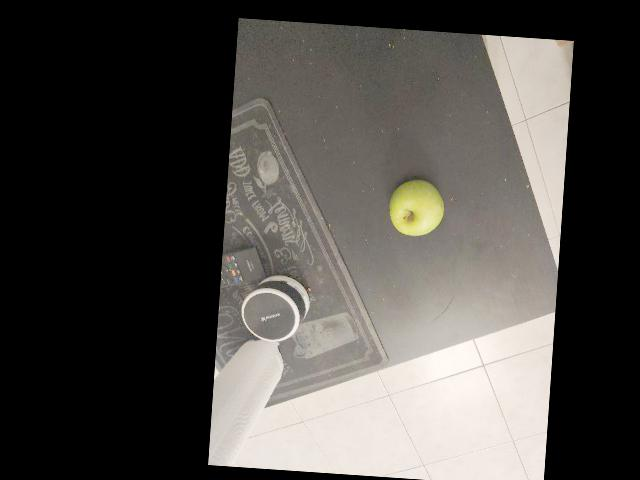apple: (448, 308, 545, 373)
